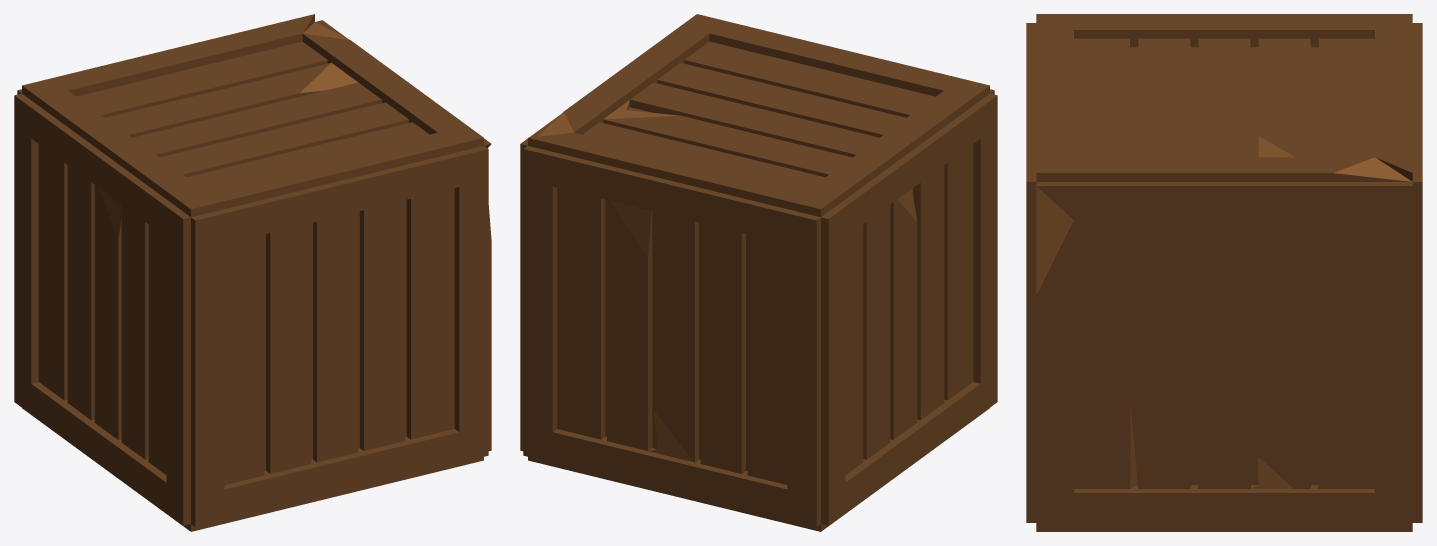
File: Wooden_Box_05.fbx
3 renders of one model, left to right at view 1: azimuth 30°, elevation 25°; view 2: azimuth 150°, elevation 25°; view 3: azimuth 270°, elevation 25°, orthographic. The views are drawn at different scales.
Visible parts, largest first — view 1: Wooden_Box; view 2: Wooden_Box; view 3: Wooden_Box.
Boxes of the visible parts, x1,y1,x2,y2 form: Wooden_Box: (14,14,491,531); Wooden_Box: (520,14,997,531); Wooden_Box: (1026,14,1422,531).
Bounding box in the file's own units: 105 × 105 × 105.
